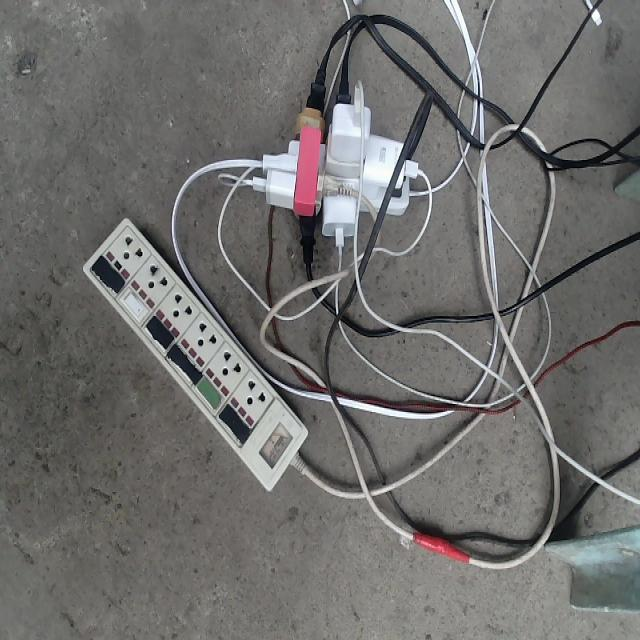-: (251, 64, 431, 261)
